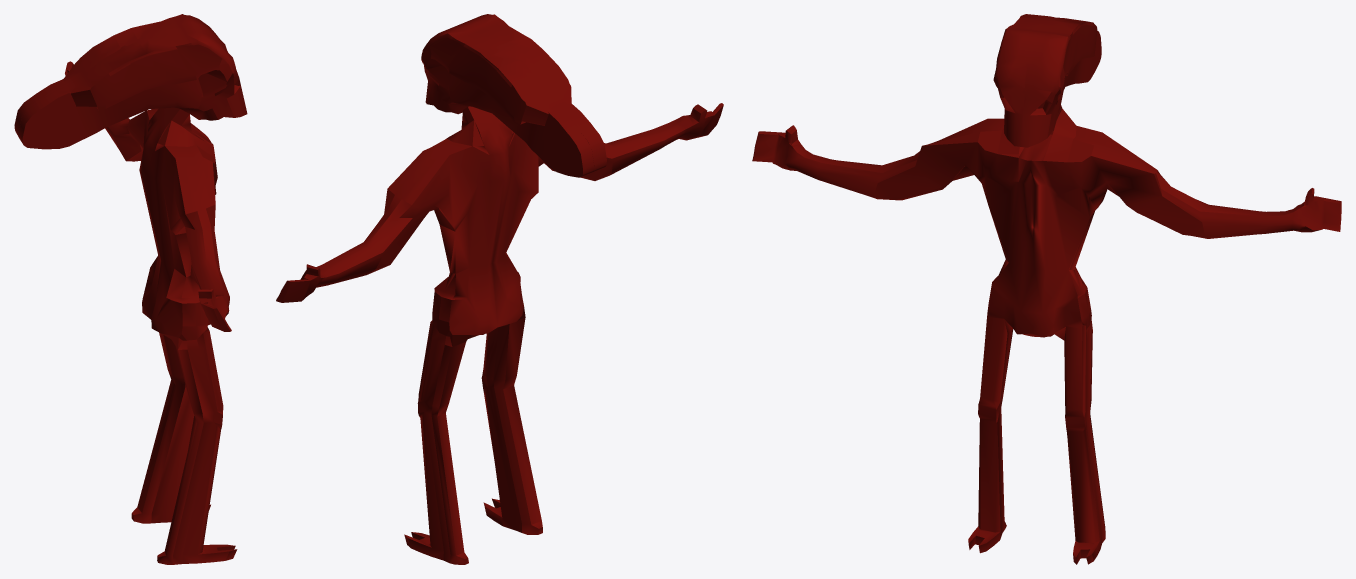
Rendered from AidenSteynAlienBodyConcept.fbx.
3 views of the same model, side by side, from view 1: azimuth 30°, elevation 25°; view 2: azimuth 150°, elevation 25°; view 3: azimuth 270°, elevation 25° (orthographic).
Parts seen in each view (by area): view 1: Head; view 2: Head; view 3: Head.
Part boxes in pixels (box(x1,y1,x2,y2)): Head: box(14, 14, 247, 564); Head: box(276, 14, 723, 564); Head: box(752, 14, 1341, 564).
Bounding box in the file's own units: 451 × 1095 × 1139.
